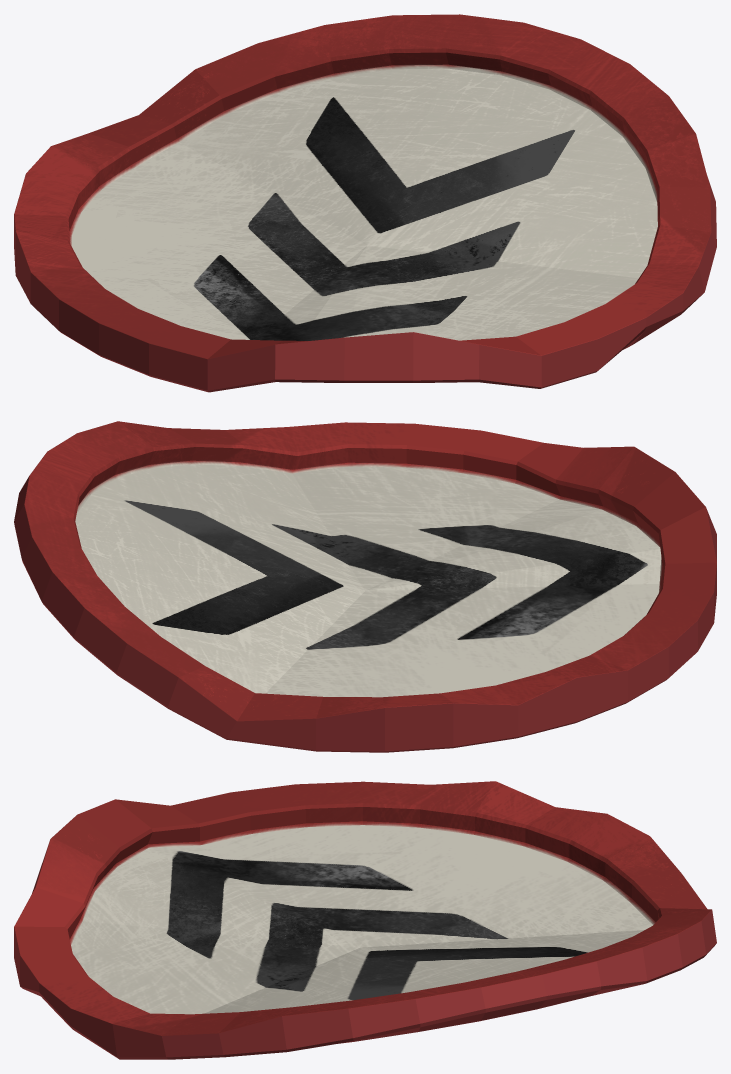
The picture shows the model from 3 angles, top to bottom: view 1: azimuth 30°, elevation 25°; view 2: azimuth 150°, elevation 25°; view 3: azimuth 270°, elevation 25°; orthographic projection. The views are drawn at different scales.
Parts seen in each view (by area): view 1: Cylinder.075; view 2: Cylinder.075; view 3: Cylinder.075.
Part boxes in pixels (box(x1,y1,x2,y2)): Cylinder.075: box(14, 14, 716, 392); Cylinder.075: box(14, 421, 716, 752); Cylinder.075: box(14, 781, 716, 1059).
Bounding box in the file's own units: 199 × 33.81 × 203.
3 materials, 1 textured.
